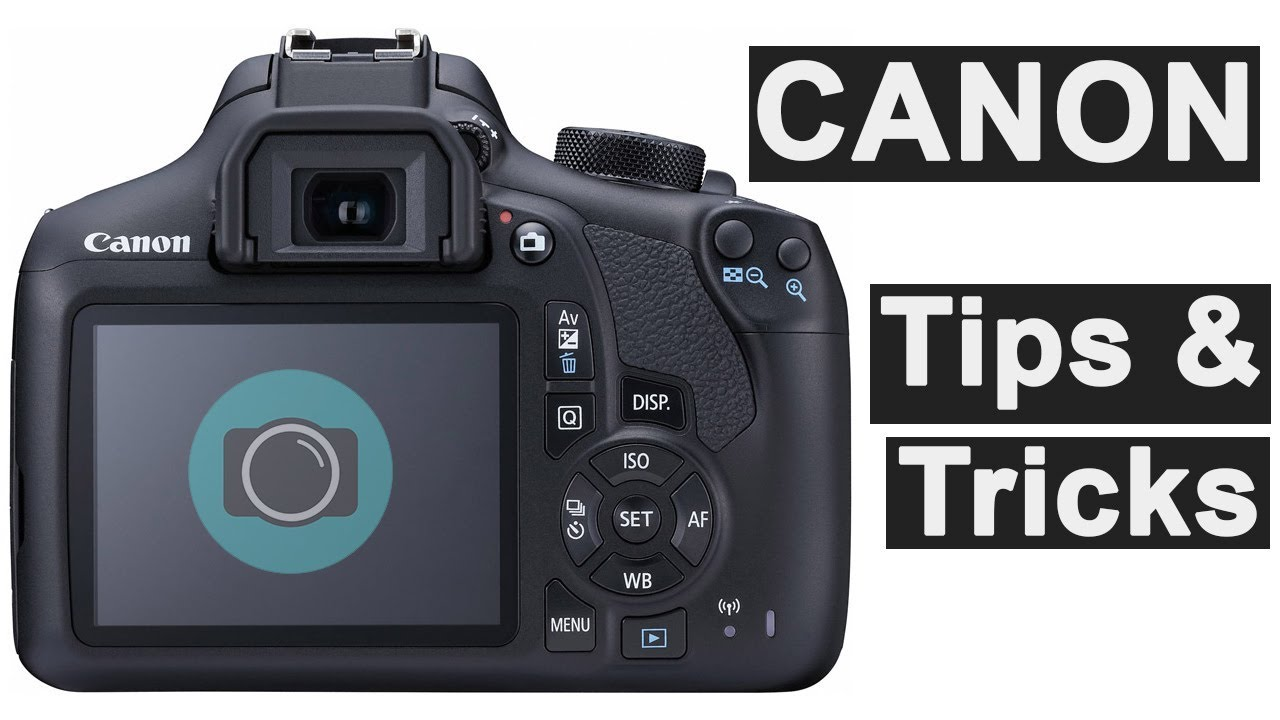camera: (11, 52, 855, 697), (10, 48, 333, 378)
